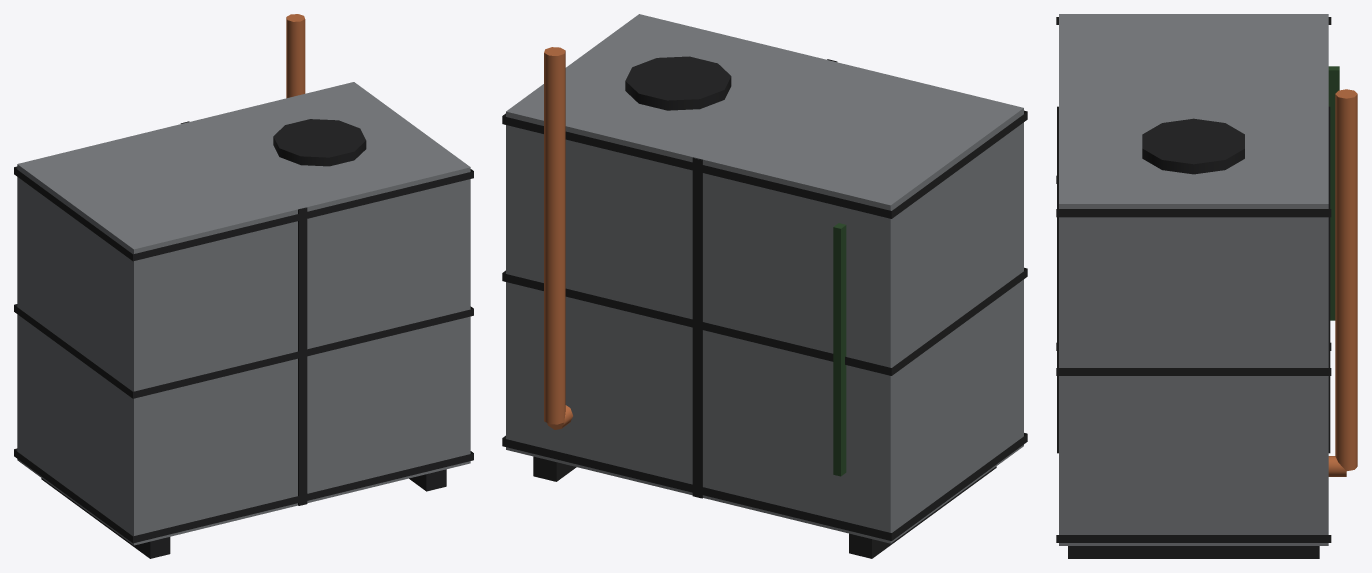
The model's file is parametric-tank-3rd.glb.
The picture shows the model from 3 angles, left to right: view 1: azimuth 30°, elevation 25°; view 2: azimuth 150°, elevation 25°; view 3: azimuth 270°, elevation 25°; orthographic projection. The views are drawn at different scales.
Parts seen in each view (by area): view 1: parametric-tank-3rd; view 2: parametric-tank-3rd; view 3: parametric-tank-3rd.
Boxes of the visible parts, x1,y1,x2,y2 form: parametric-tank-3rd: [14, 14, 473, 558]; parametric-tank-3rd: [502, 14, 1027, 558]; parametric-tank-3rd: [1056, 14, 1357, 558].
Bounding box in the file's own units: 2.02 × 2.2 × 1.34.
